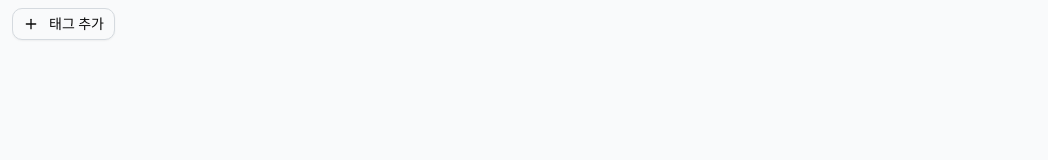
Test case: TagEditor Component - Story 4.6 › should show input field when add button clicked
The width and height of the screenshot is (1048, 160).
Click the button "태그 추가". click: (63, 24)
box: [12,8,115,40]
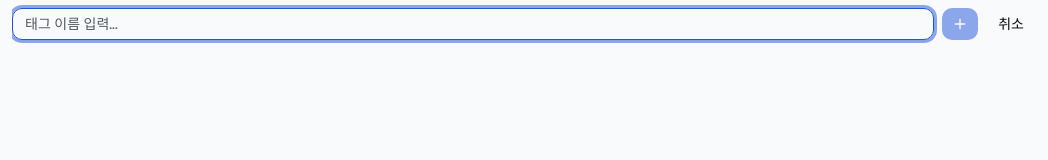
Check: the field with placeholder "태그 이름 입력..." is shown, box [12,8,934,40]
